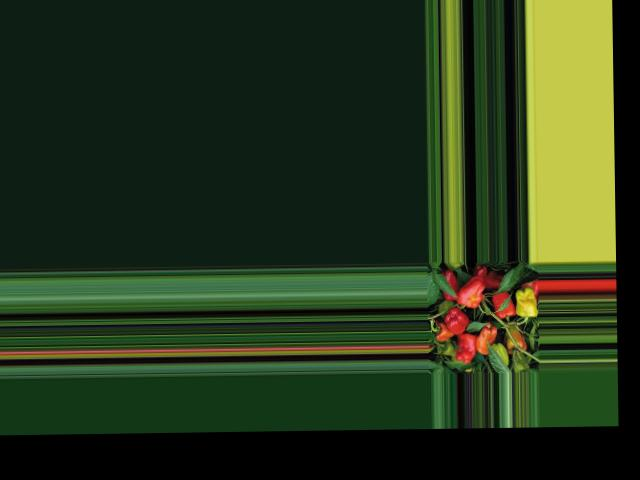bell_pepper: (433, 327, 452, 341)
